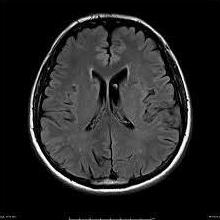Normal_Brain: (25, 1, 210, 220)
